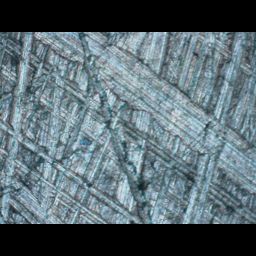d: (65, 47, 240, 211)
